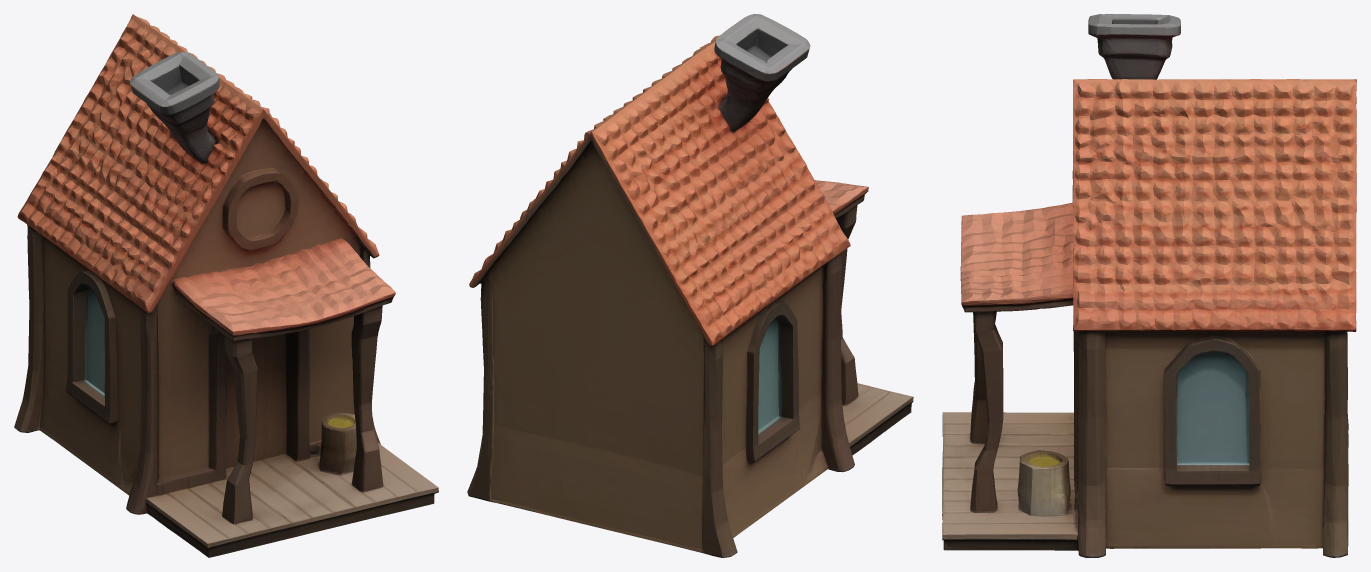
File: nano_t04.glb
3 views of the same model, side by side, from view 1: azimuth 30°, elevation 25°; view 2: azimuth 150°, elevation 25°; view 3: azimuth 270°, elevation 25° (orthographic). The views are drawn at different scales.
Parts seen in each view (by area): view 1: geometry_0; view 2: geometry_0; view 3: geometry_0.
Boxes of the visible parts, box(x1,y1,x2,y2) form: geometry_0: box(14, 14, 438, 557); geometry_0: box(467, 14, 913, 557); geometry_0: box(942, 14, 1356, 557).
Size of the model in its own units: 0.725 by 1.13 by 0.9476.
1 material, 1 textured.
